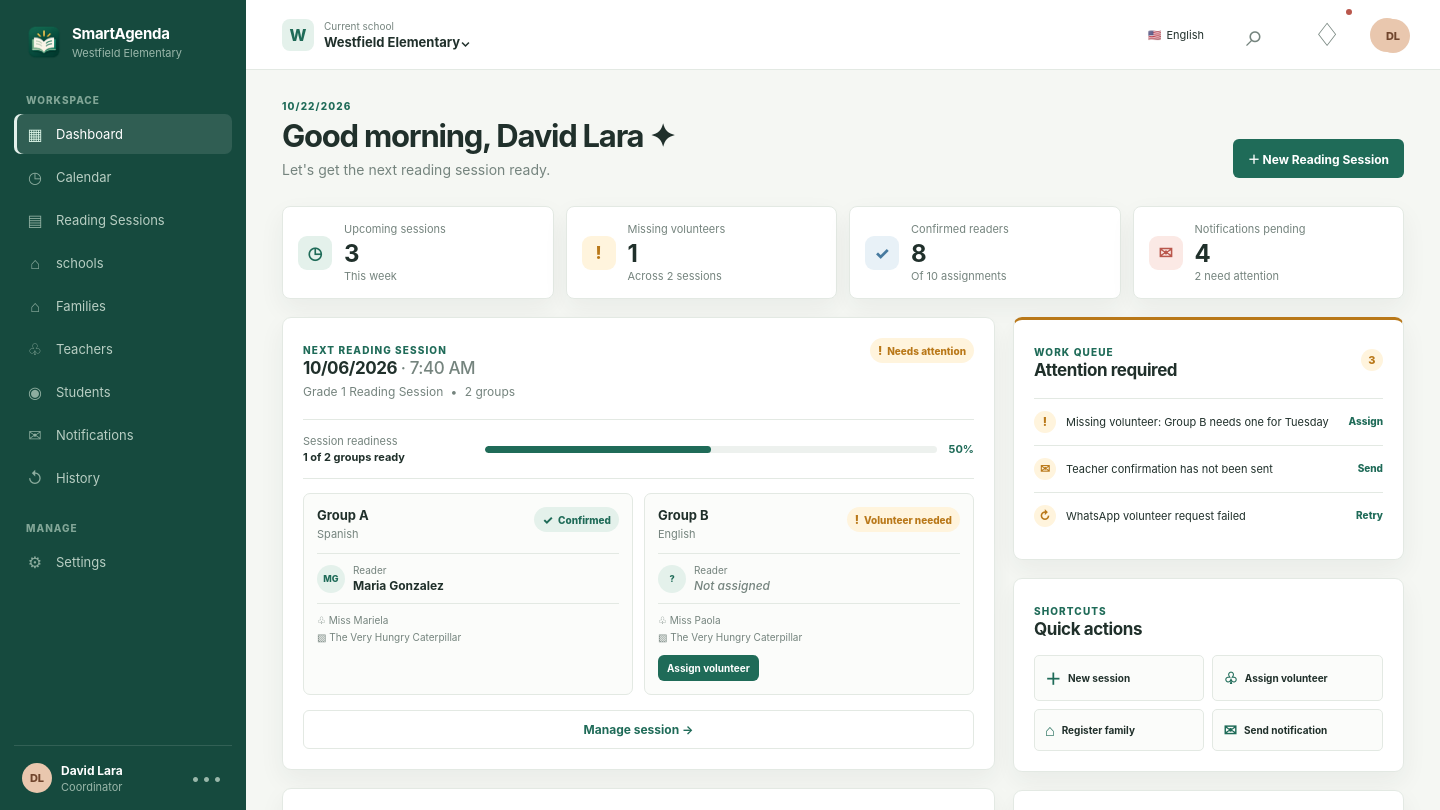
switches the active language immediately
Click the button with aria-label "Language" at (1176, 34), box [1140, 20, 1212, 50]
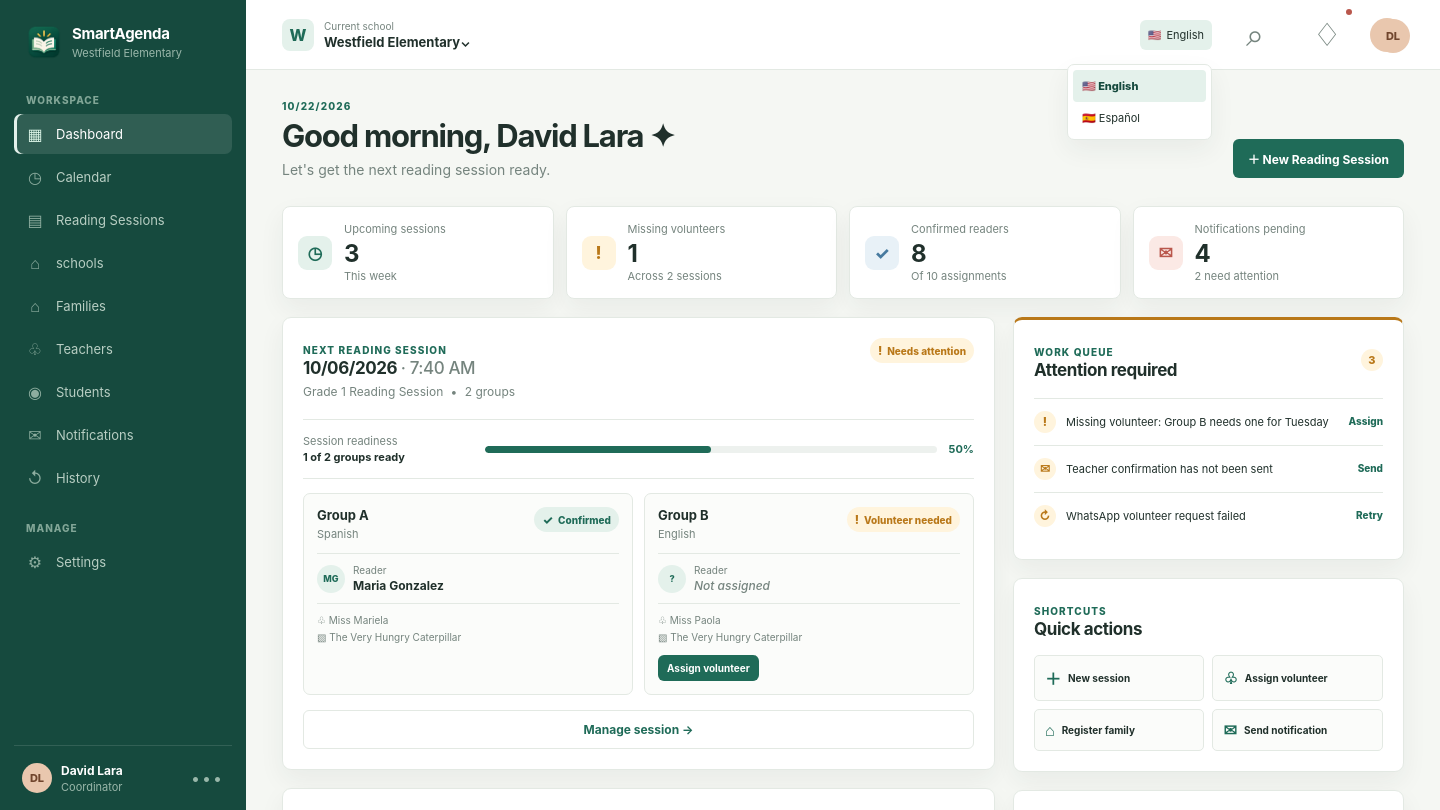
Click the button "🇪🇸 Español" at (1140, 118), box [1073, 102, 1206, 134]
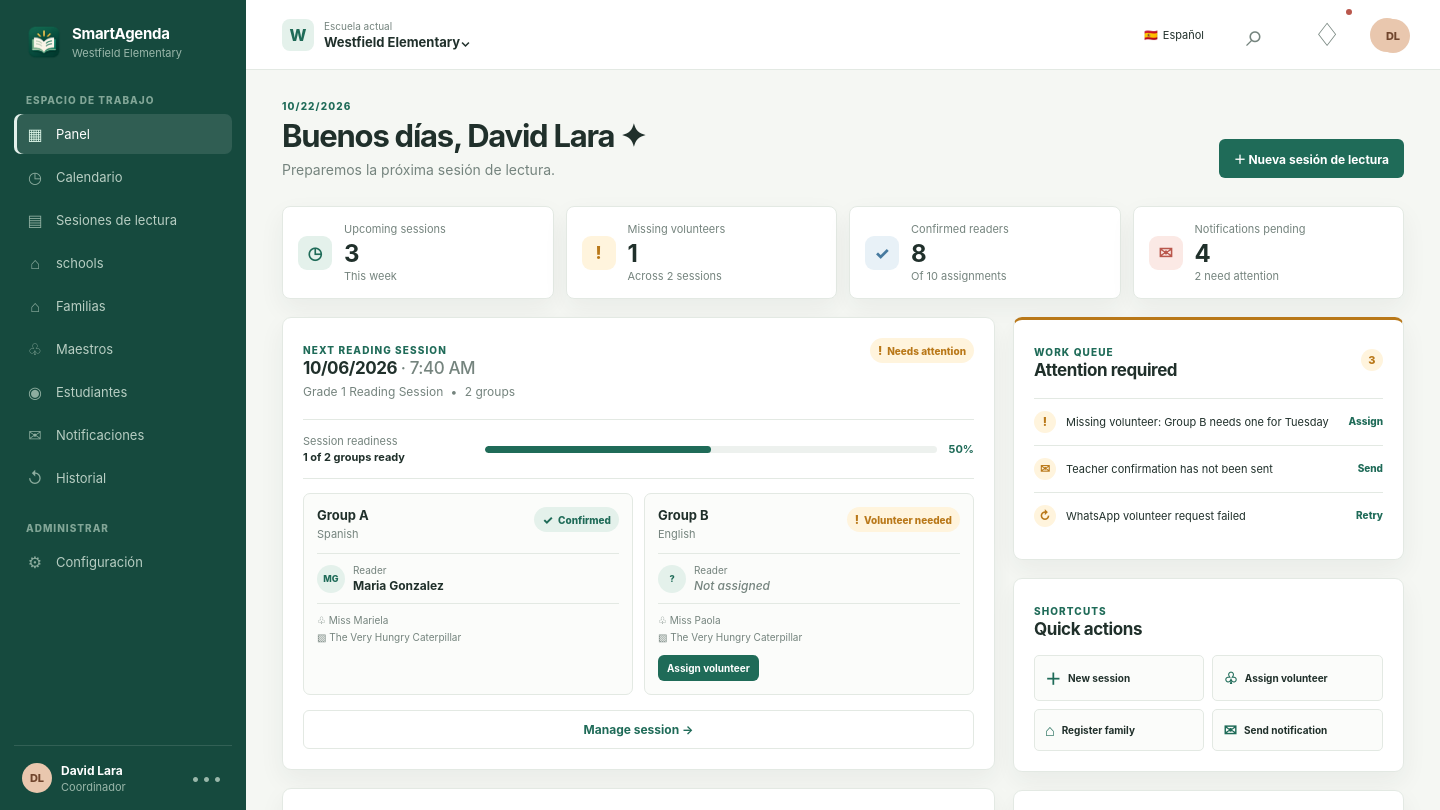
expect the heading "Buenos días, David Lara ✦" is shown: met, box [282, 119, 645, 153]
